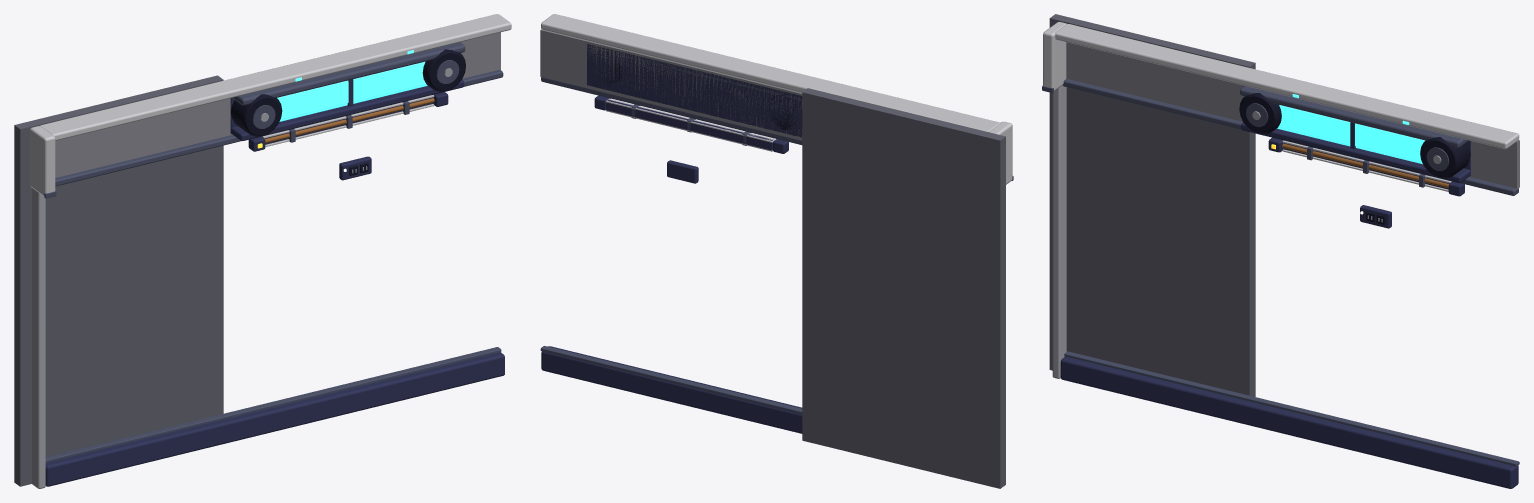
Rendered from int.wallbay.far.08.w1.glb.
3 renders of one model, left to right at view 1: azimuth 30°, elevation 25°; view 2: azimuth 150°, elevation 25°; view 3: azimuth 330°, elevation 25°, orthographic. The views are drawn at different scales.
Visible parts, largest first — view 1: int.wallbay.far.08.w1; view 2: int.wallbay.far.08.w1; view 3: int.wallbay.far.08.w1.
Part boxes in pixels (bbox=[...]): int.wallbay.far.08.w1: bbox=[14, 14, 511, 488]; int.wallbay.far.08.w1: bbox=[540, 14, 1013, 488]; int.wallbay.far.08.w1: bbox=[1042, 14, 1519, 488].
Size of the model in its own units: 2.35 by 1.68 by 0.2.
